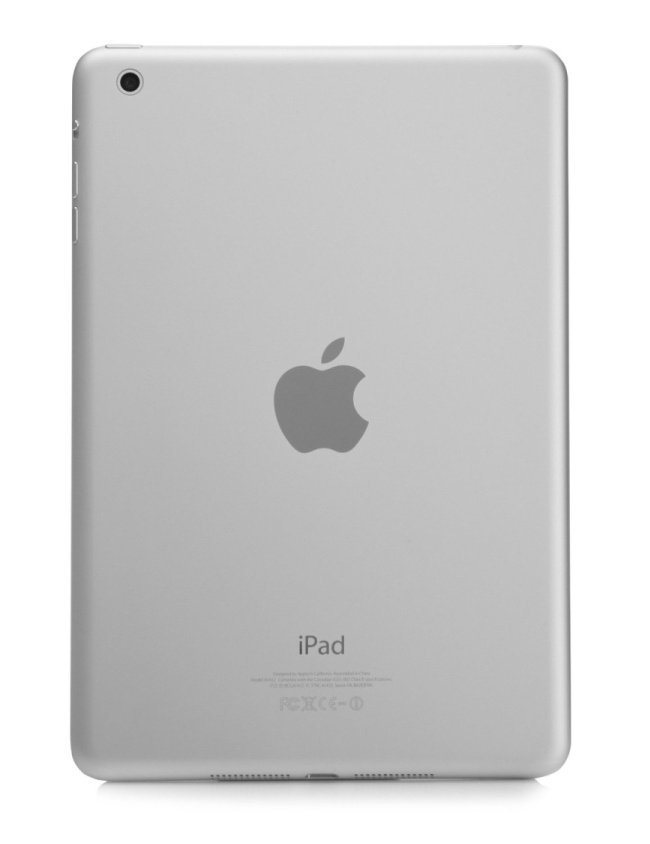apple: (231, 302, 421, 523)
